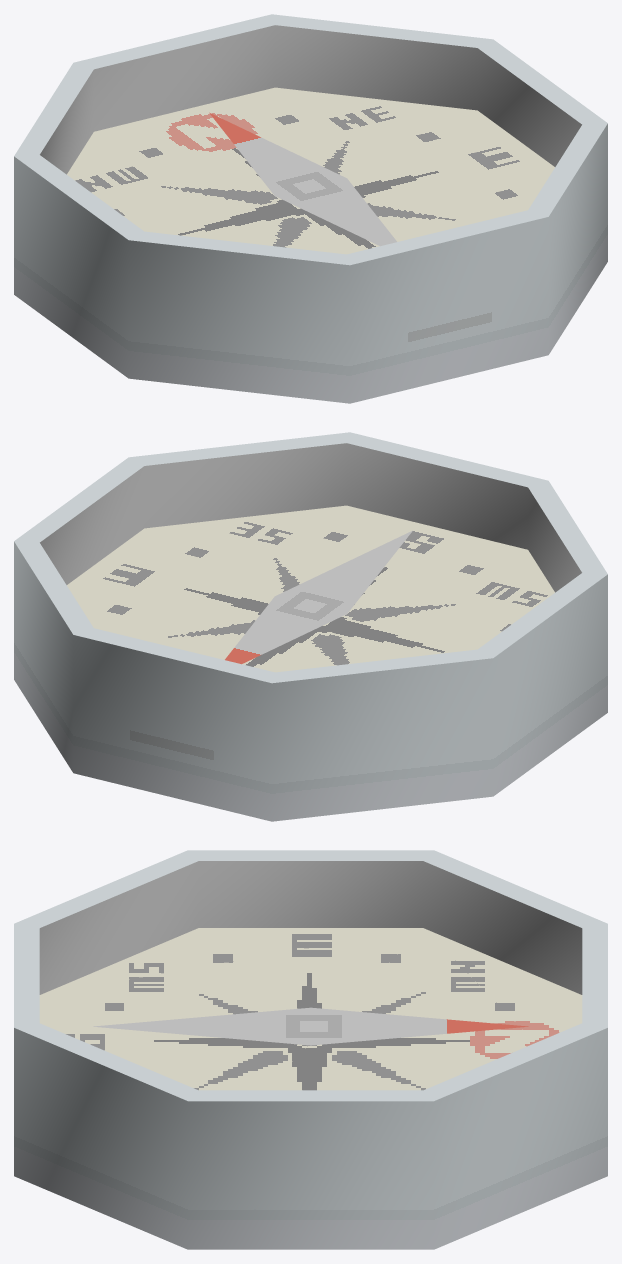
File: 002f_Compass.glb
The picture shows the model from 3 angles, top to bottom: view 1: azimuth 30°, elevation 25°; view 2: azimuth 150°, elevation 25°; view 3: azimuth 270°, elevation 25°; orthographic projection. The views are drawn at different scales.
Parts seen in each view (by area): view 1: part_0, part_1; view 2: part_0, part_1; view 3: part_0, part_1.
Boxes of the visible parts, left/top/right/bottom form: part_0: left=14, top=14, right=607, bottom=403; part_1: left=209, top=112, right=396, bottom=246; part_0: left=14, top=432, right=607, bottom=821; part_1: left=225, top=530, right=412, bottom=664; part_0: left=14, top=850, right=607, bottom=1249; part_1: left=93, top=1007, right=528, bottom=1045.
Bounding box in the file's own units: 0.0462 × 0.0127 × 0.0462.
Materials: 2 (2 with a texture image).
